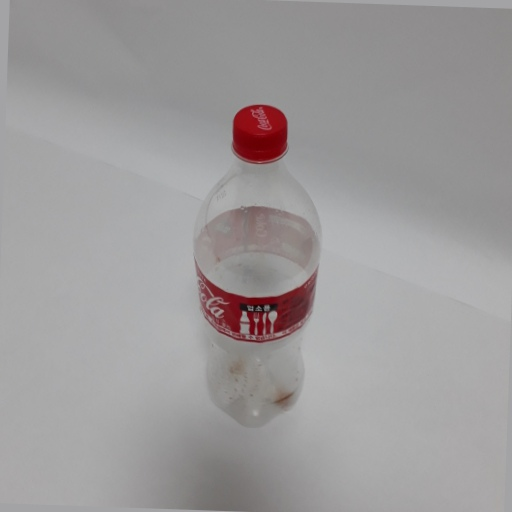Plastic_0: (187, 100, 330, 435)
